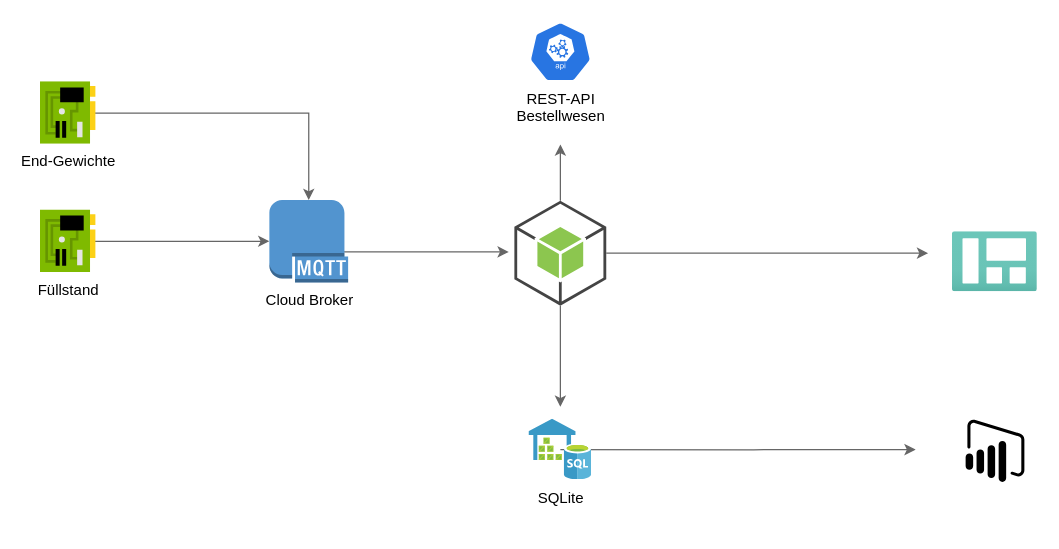
The diagram is 1059 pixels wide and 549 high, and some of its shapes have lost their labels. Each missing label, with the centre of its shape:
node-red: the point at 559,252
node-red Dashboard: the point at 994,261
Power BI Dashboard: the point at 994,450
